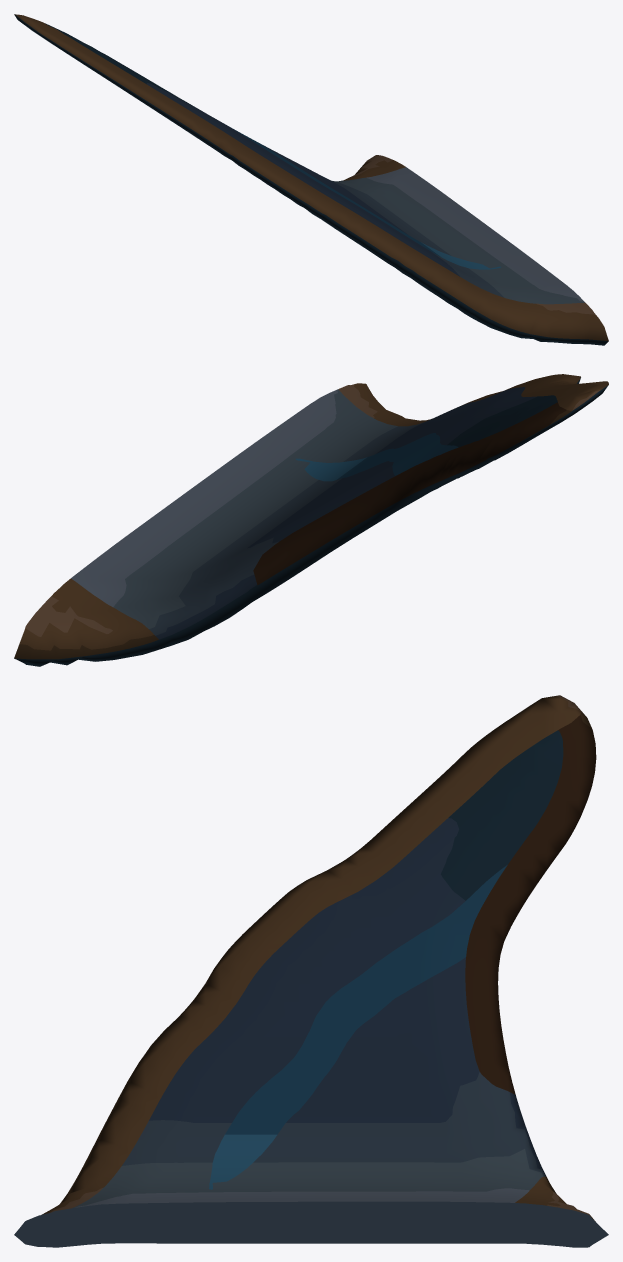
File: coral_manta_wing_235.glb
The picture shows the model from 3 angles, top to bottom: view 1: azimuth 30°, elevation 25°; view 2: azimuth 150°, elevation 25°; view 3: azimuth 270°, elevation 25°; orthographic projection. The views are drawn at different scales.
Visible parts, largest first — view 1: coral_manta_wing_235; view 2: coral_manta_wing_235; view 3: coral_manta_wing_235.
Part boxes in pixels (x1,y1,x2,y2): coral_manta_wing_235: (14, 14, 608, 345); coral_manta_wing_235: (14, 374, 608, 666); coral_manta_wing_235: (14, 695, 608, 1247).
Bounding box in the file's own units: 20.24 × 13.82 × 22.68.
